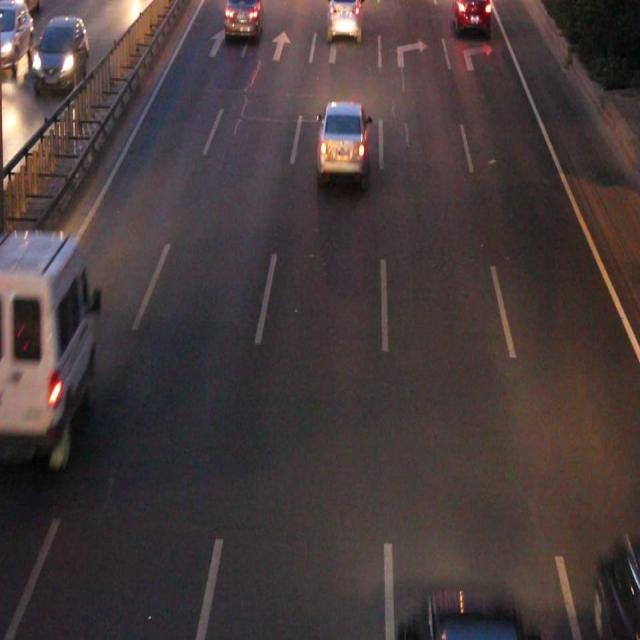car: (318, 104, 364, 174), (327, 1, 360, 37), (224, 2, 261, 34), (453, 1, 488, 30)
truck: (1, 232, 92, 455)
